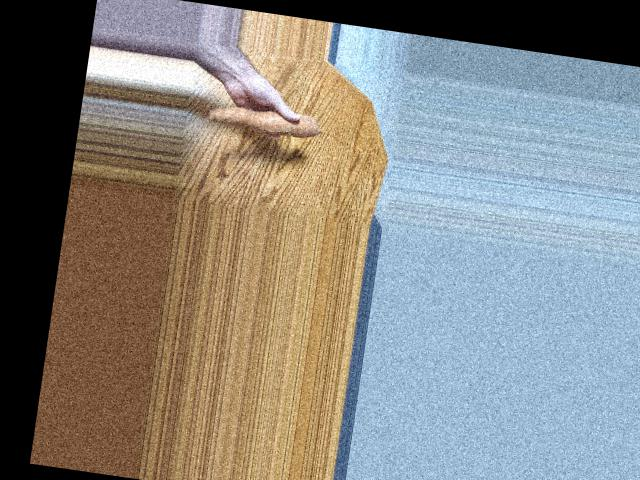sweet_potato: (207, 96, 317, 143)
